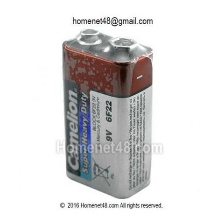battery: (58, 27, 156, 200)
